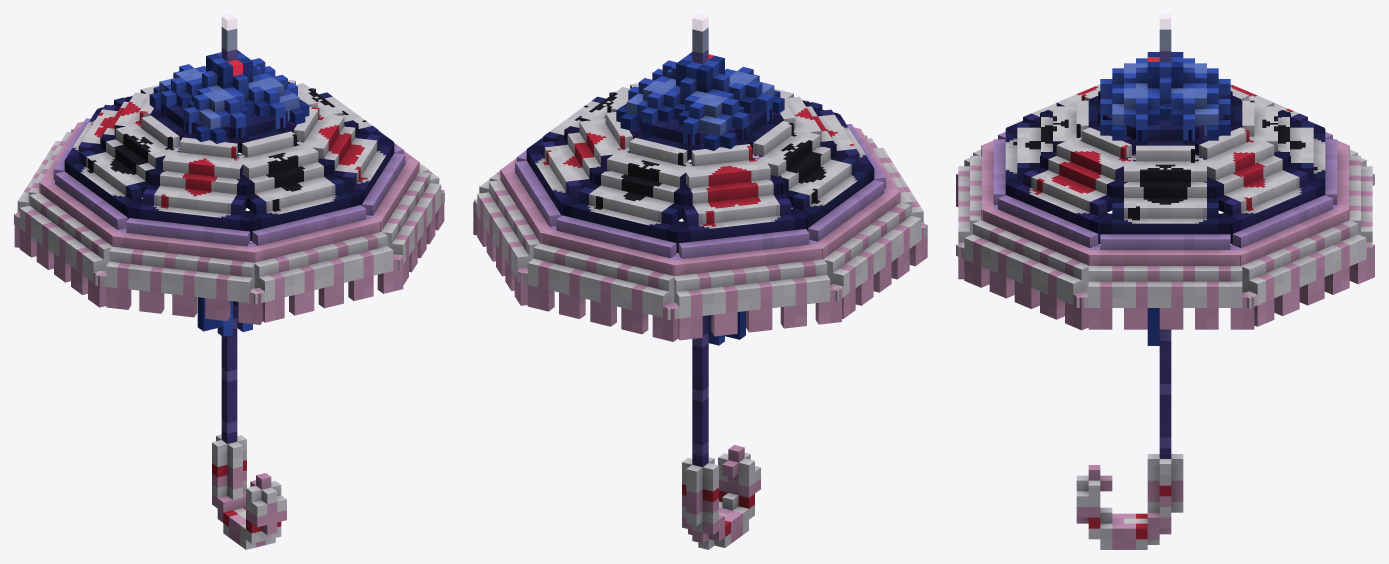
Rendered from umbrella.glb.
3 renders of one model, left to right at view 1: azimuth 30°, elevation 25°; view 2: azimuth 150°, elevation 25°; view 3: azimuth 270°, elevation 25°, orthographic. The views are drawn at different scales.
Parts seen in each view (by area): view 1: panel_mesh_7, panel_mesh_0, panel_mesh_6, panel_mesh_1, shaft, bow_top, panel_mesh_5, panel_mesh_2, ferrule; view 2: panel_mesh_5, panel_mesh_4, panel_mesh_6, panel_mesh_3, bow_top, shaft, panel_mesh_7, panel_mesh_2, ferrule; view 3: panel_mesh_2, panel_mesh_1, panel_mesh_3, bow_top, shaft, panel_mesh_0, panel_mesh_4, panel_mesh_7, panel_mesh_5, ferrule.
Part boxes in pixels (box(x1,y1,x2,y2)): panel_mesh_7: box(95, 121, 262, 324); panel_mesh_0: box(235, 113, 403, 322); panel_mesh_6: box(14, 95, 195, 307); panel_mesh_1: box(268, 107, 444, 284); shaft: box(197, 297, 286, 549); bow_top: box(149, 50, 309, 143); panel_mesh_5: box(14, 91, 178, 247); panel_mesh_2: box(288, 82, 444, 203); ferrule: box(221, 14, 242, 76); panel_mesh_5: box(667, 127, 841, 340); panel_mesh_4: box(517, 104, 694, 341); panel_mesh_6: box(734, 99, 927, 318); panel_mesh_3: box(474, 112, 662, 305); bow_top: box(616, 52, 784, 150); shaft: box(682, 311, 760, 549); panel_mesh_7: box(756, 95, 926, 238); panel_mesh_2: box(473, 85, 638, 235); ferrule: box(692, 14, 714, 64); panel_mesh_2: box(1076, 104, 1254, 329); panel_mesh_1: box(956, 109, 1152, 330); panel_mesh_3: box(1182, 109, 1374, 326); bow_top: box(1100, 52, 1230, 140); shaft: box(1076, 308, 1183, 549); panel_mesh_0: box(958, 95, 1112, 279); panel_mesh_4: box(1218, 95, 1372, 257); panel_mesh_7: box(956, 84, 1100, 206); panel_mesh_5: box(1230, 84, 1374, 185); ferrule: box(1147, 14, 1171, 61).
Size of the model in its own units: 0.8485 by 1.18 by 0.8485.
